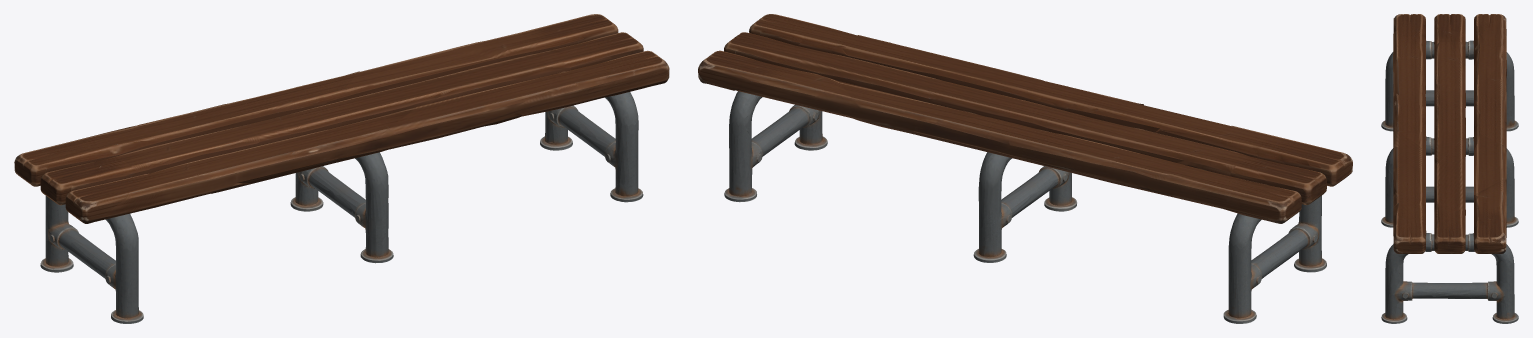
File: panca.glb
3 views of the same model, side by side, from view 1: azimuth 30°, elevation 25°; view 2: azimuth 150°, elevation 25°; view 3: azimuth 270°, elevation 25° (orthographic). The views are drawn at different scales.
Parts seen in each view (by area): view 1: Mesh_0; view 2: Mesh_0; view 3: Mesh_0.
Boxes of the visible parts, left/top/right/bottom form: Mesh_0: left=14, top=14, right=669, bottom=323; Mesh_0: left=698, top=14, right=1352, bottom=323; Mesh_0: left=1381, top=14, right=1518, bottom=323.
Bounding box in the file's own units: 1.9 × 0.3786 × 0.4874.
Materials: 1 (1 with a texture image).
